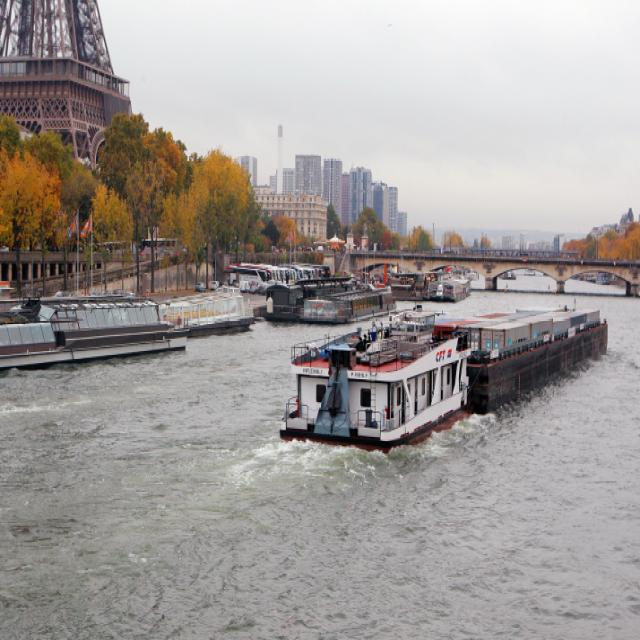tugboat: (277, 303, 476, 465)
